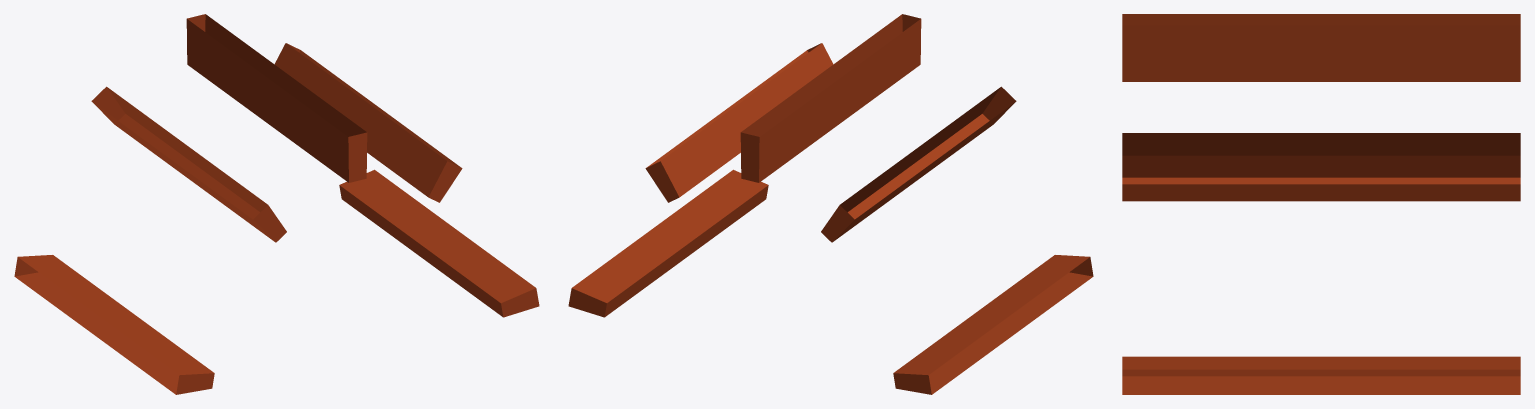
Rendered from Vikings_planks.fbx.
The picture shows the model from 3 angles, left to right: view 1: azimuth 30°, elevation 25°; view 2: azimuth 150°, elevation 25°; view 3: azimuth 270°, elevation 25°; orthographic projection. The views are drawn at different scales.
Parts seen in each view (by area): view 1: Cube.005; view 2: Cube.005; view 3: Cube.005.
Boxes of the visible parts, x1,y1,x2,y2 form: Cube.005: (14,14,539,394); Cube.005: (568,14,1093,394); Cube.005: (1122,14,1520,394).
Size of the model in its own units: 666 by 382 by 513.
